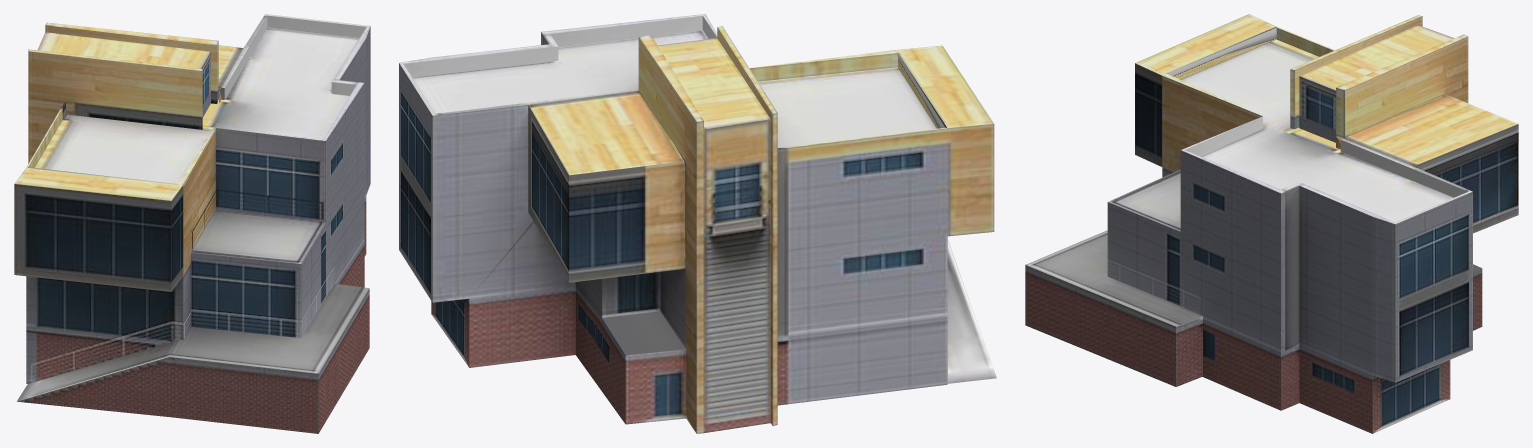
3 views of the same model, side by side, from view 1: azimuth 30°, elevation 25°; view 2: azimuth 150°, elevation 25°; view 3: azimuth 270°, elevation 25° (orthographic). The views are drawn at different scales.
Parts seen in each view (by area): view 1: MainBuilding; view 2: MainBuilding; view 3: MainBuilding.
Boxes of the visible parts, x1,y1,x2,y2 form: MainBuilding: [14, 14, 370, 433]; MainBuilding: [399, 14, 996, 433]; MainBuilding: [1025, 14, 1518, 433].
Size of the model in its own units: 1.7 by 0.9974 by 1.69.
1 material, 1 textured.
